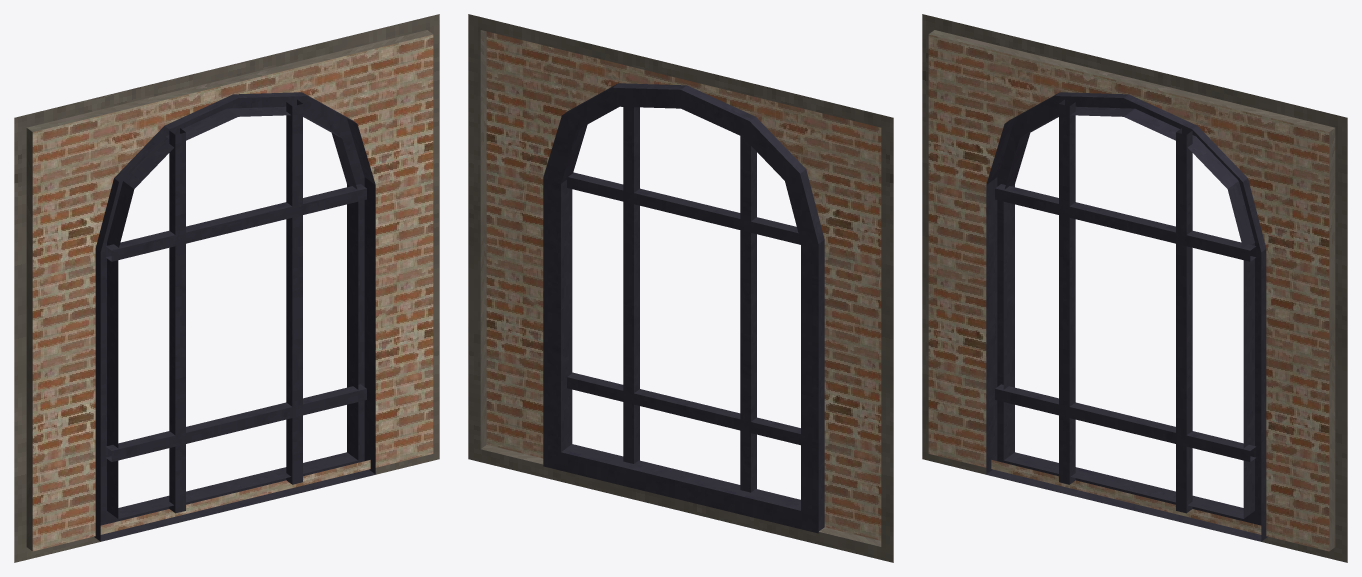
Rendered from Factory_Wall_Window_Rounded_4x4m.glb.
3 views of the same model, side by side, from view 1: azimuth 30°, elevation 25°; view 2: azimuth 150°, elevation 25°; view 3: azimuth 330°, elevation 25° (orthographic).
Visible parts, largest first — view 1: Factory_Wall_Window_Rounded_4x4; view 2: Factory_Wall_Window_Rounded_4x4; view 3: Factory_Wall_Window_Rounded_4x4.
Part boxes in pixels (x1,y1,x2,y2): Factory_Wall_Window_Rounded_4x4: (14,14,439,562); Factory_Wall_Window_Rounded_4x4: (468,14,893,562); Factory_Wall_Window_Rounded_4x4: (922,14,1347,562).
Size of the model in its own units: 4 by 4 by 0.2005.
Materials: 3 (3 with a texture image).
